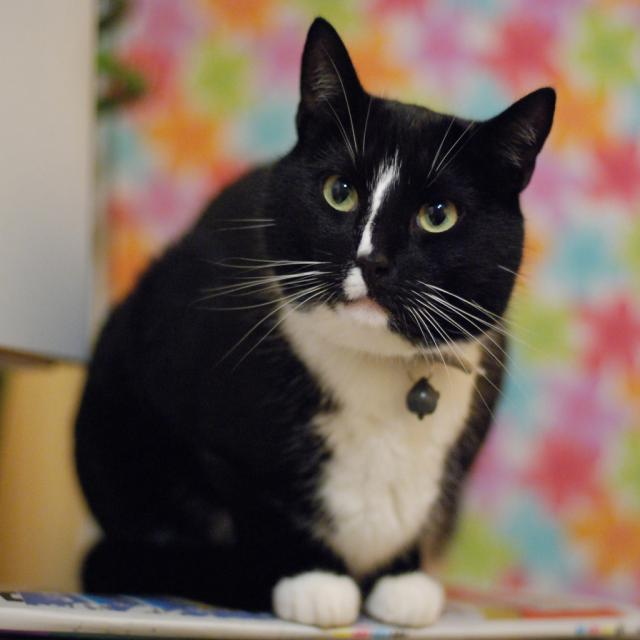Cat: (73, 9, 568, 626)
